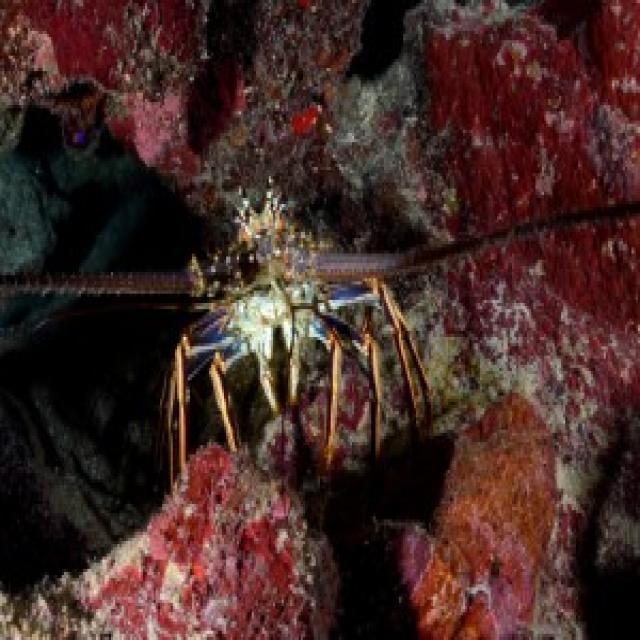lobsters: (9, 190, 618, 455)
